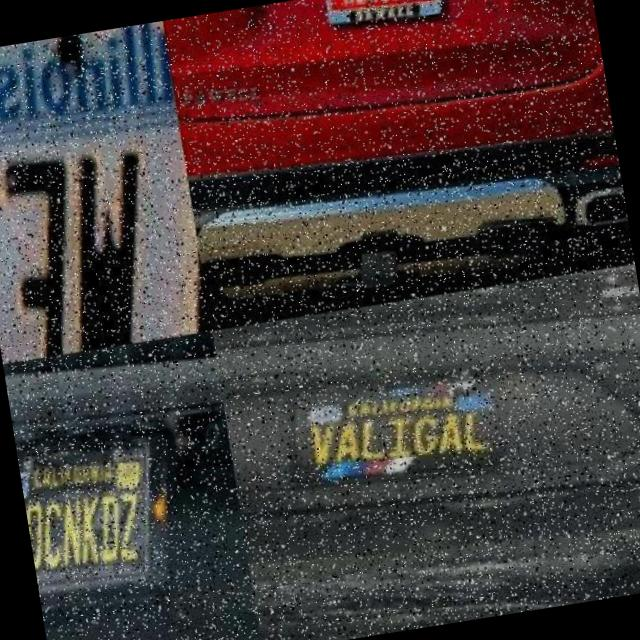LicensePlate: (0, 99, 212, 363), (16, 430, 176, 600), (298, 376, 516, 481), (333, 0, 449, 24)
